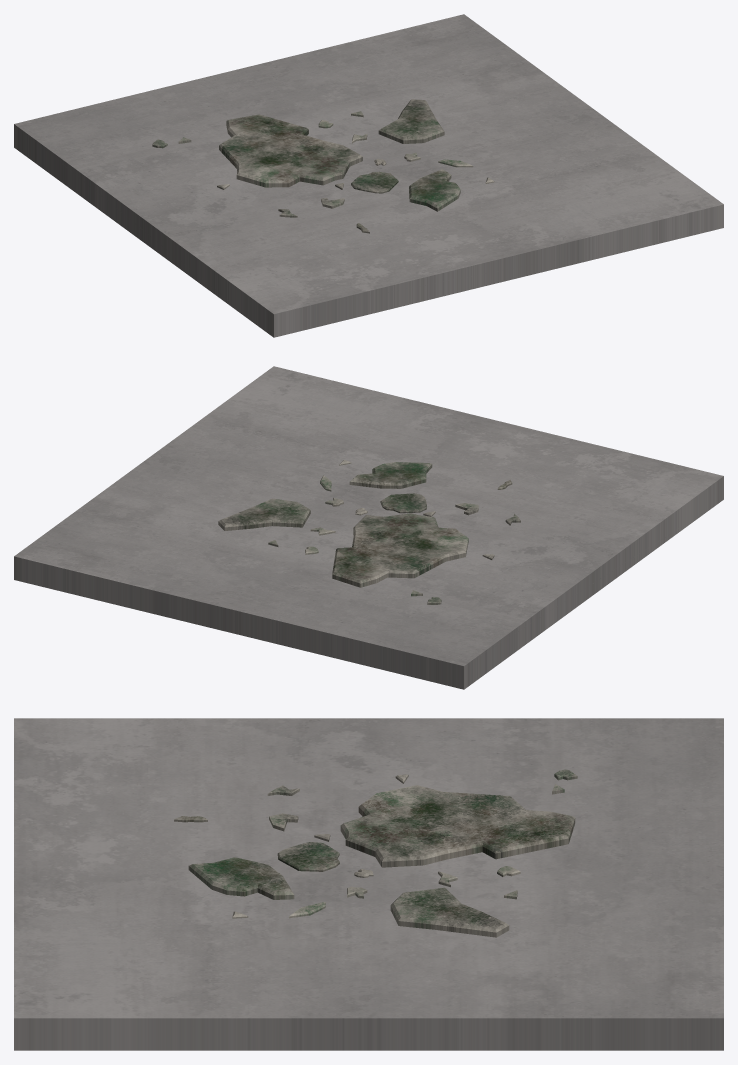
File: Floor Debris.fbx
3 views of the same model, one above another, from view 1: azimuth 30°, elevation 25°; view 2: azimuth 150°, elevation 25°; view 3: azimuth 270°, elevation 25° (orthographic). The views are drawn at different scales.
Visible parts, largest first — view 1: Floor Debris, Debris; view 2: Floor Debris, Debris; view 3: Floor Debris, Debris.
Part boxes in pixels (x1=…): Floor Debris: x1=14, y1=14, x2=723, y2=337; Debris: x1=152, y1=99, x2=494, y2=233; Floor Debris: x1=14, y1=366, x2=723, y2=689; Debris: x1=218, y1=460, x2=520, y2=604; Floor Debris: x1=14, y1=718, x2=723, y2=1050; Debris: x1=174, y1=769, x2=577, y2=937.
Size of the model in its own units: 4 by 4 by 0.2511.
